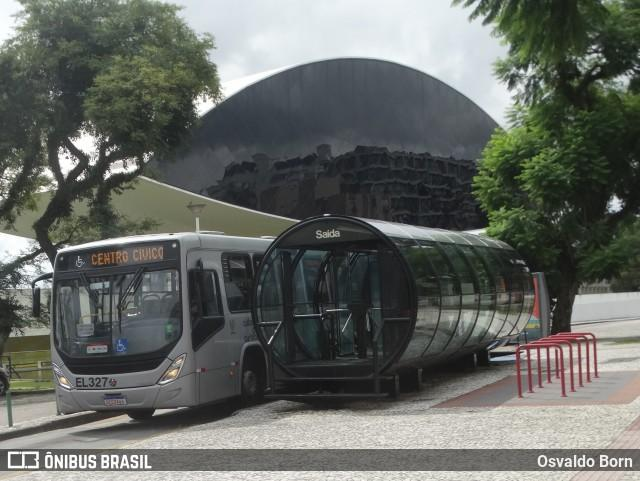CENTRO CIVICO: (87, 244, 168, 270)
